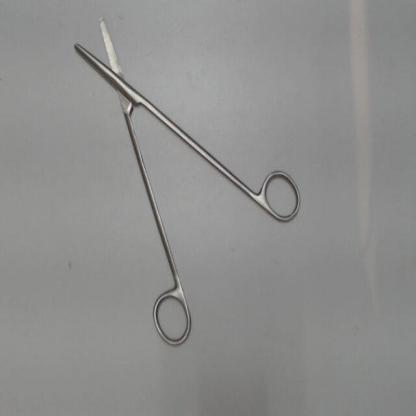9 Metzenbaum Scissors: (73, 9, 306, 354)
